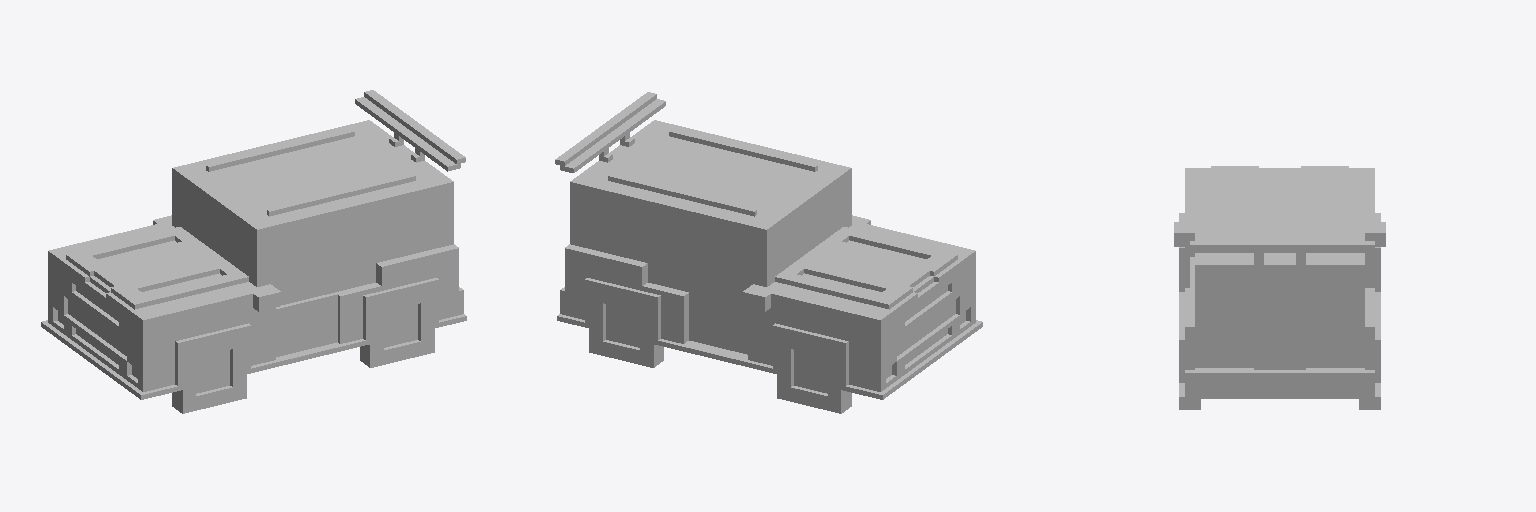
The model's file is alll cars3-113.obj.
3 views of the same model, side by side, from view 1: azimuth 30°, elevation 25°; view 2: azimuth 150°, elevation 25°; view 3: azimuth 270°, elevation 25° (orthographic).
Parts seen in each view (by area): view 1: object 1; view 2: object 1; view 3: object 1.
Boxes of the visible parts, <box> form: object 1: <box>41,90,466,413</box>; object 1: <box>555,92,982,413</box>; object 1: <box>1174,166,1385,409</box>.
Size of the model in its own units: 7.2 by 3.8 by 4.